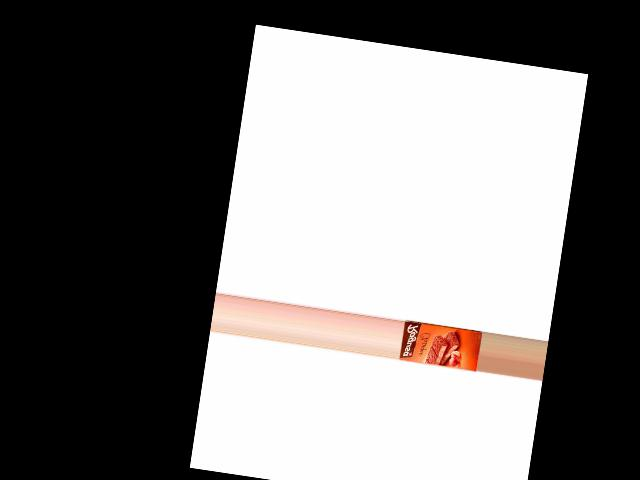chocolate: (399, 318, 483, 376)
